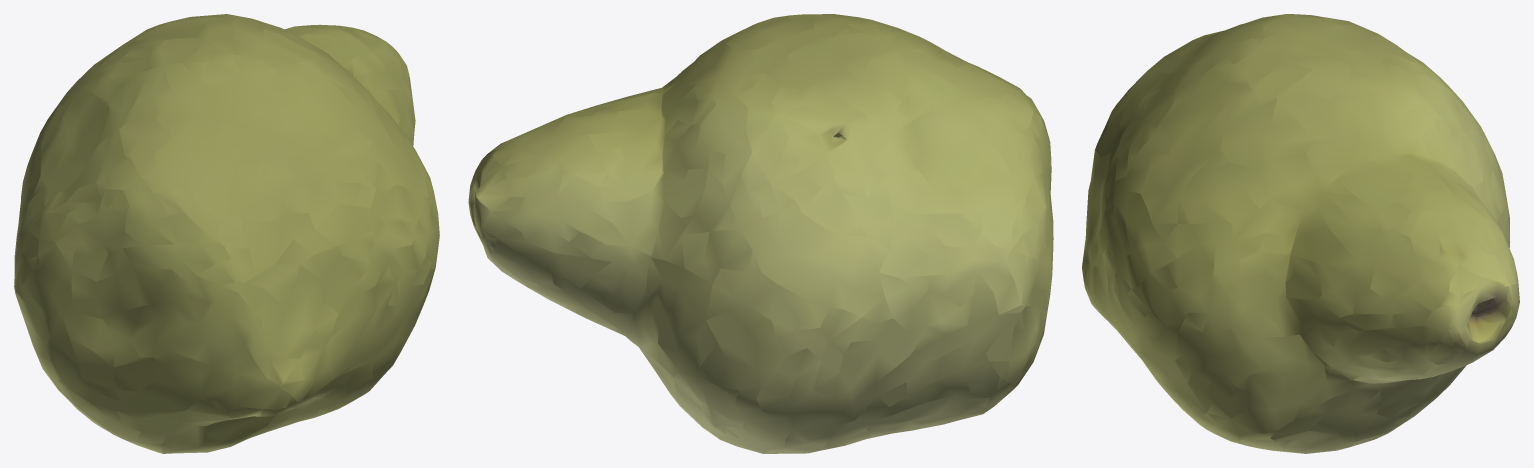
File: 0001_mask_002_green_pear.glb
The picture shows the model from 3 angles, left to right: view 1: azimuth 30°, elevation 25°; view 2: azimuth 150°, elevation 25°; view 3: azimuth 270°, elevation 25°; orthographic projection. The views are drawn at different scales.
Visible parts, largest first — view 1: mask_002_object; view 2: mask_002_object; view 3: mask_002_object.
Part boxes in pixels (box(x1,y1,x2,y2)): mask_002_object: box(14, 14, 439, 453); mask_002_object: box(468, 14, 1053, 453); mask_002_object: box(1082, 14, 1519, 453).
Bounding box in the file's own units: 0.1283 × 0.1023 × 0.1063.
